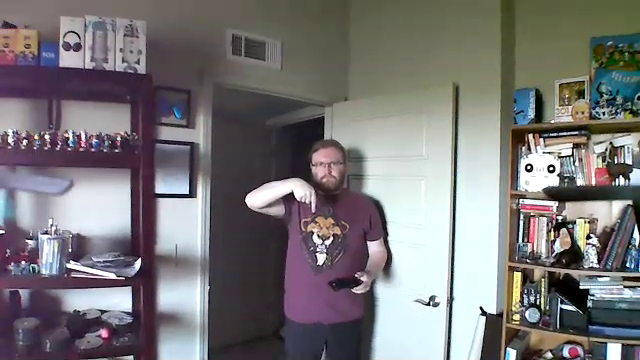down: (286, 168, 323, 218)
